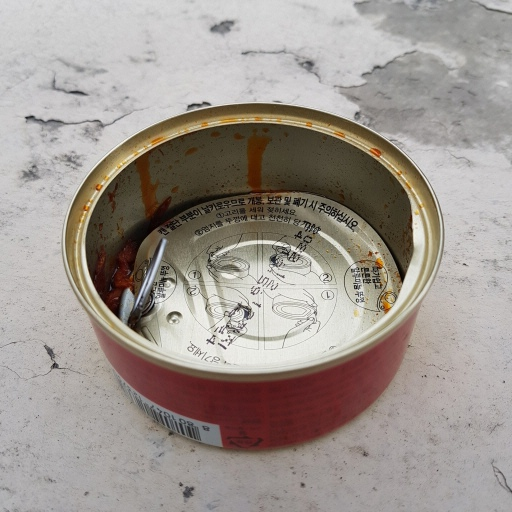Metal_1: (64, 98, 447, 454)
